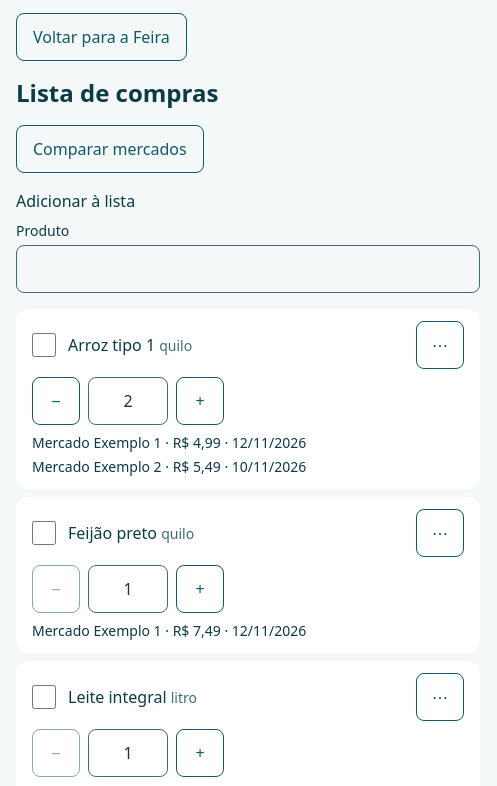
Test: ShoppingListPage › moveUpAndDownByKeyboard
The width and height of the screenshot is (497, 786).
Click the button named "Mais opções de Feijão preto" at (440, 533), box [416,509,464,557]
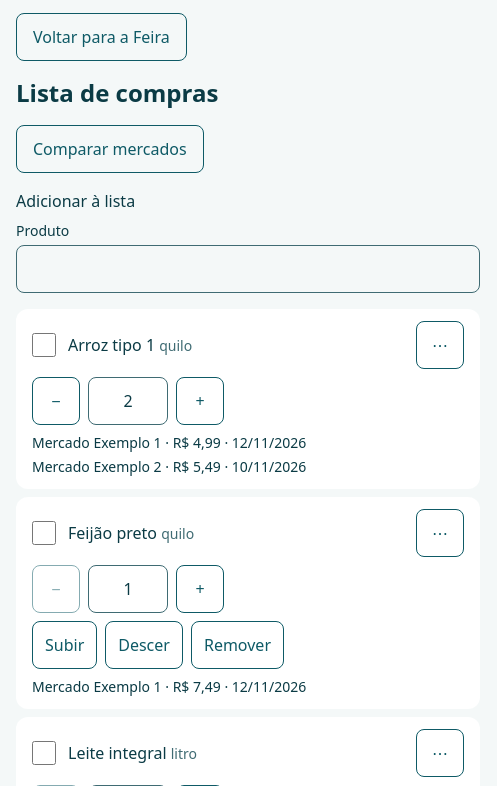
Click the button "Subir" at (65, 645), box [32,621,97,669]
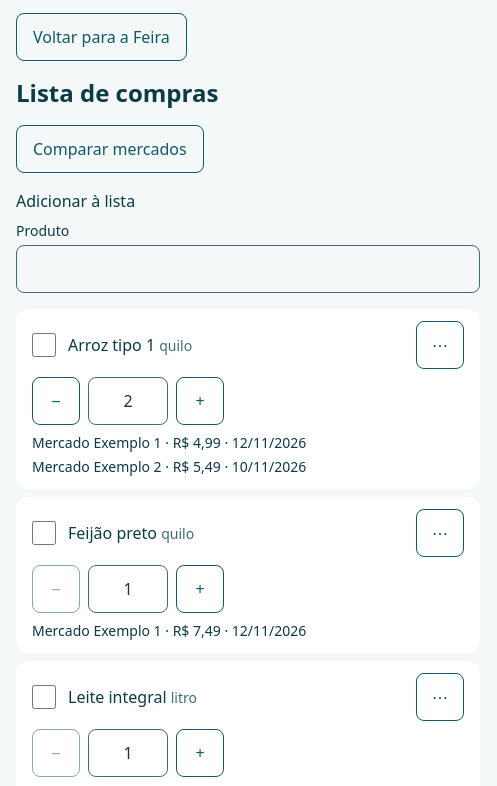
Click the button named "Mais opções de Leite integral" at (440, 697), box [416,673,464,721]
(page scrolled)
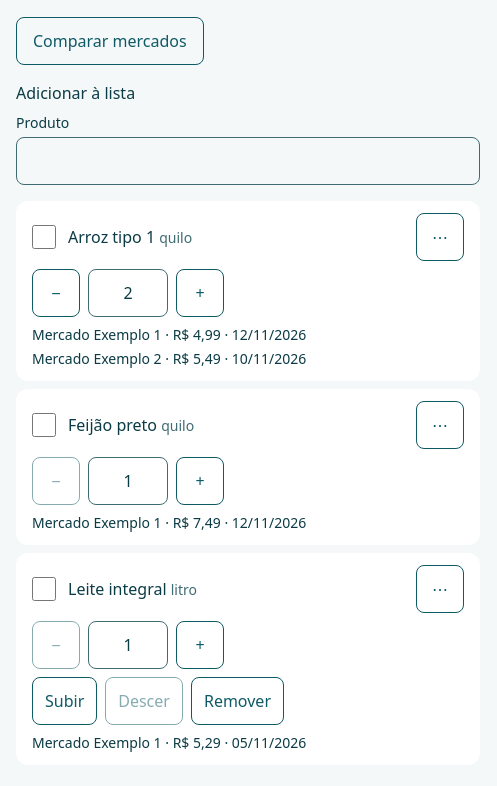
Now the button "Descer" is disabled, box [105,677,183,725]
